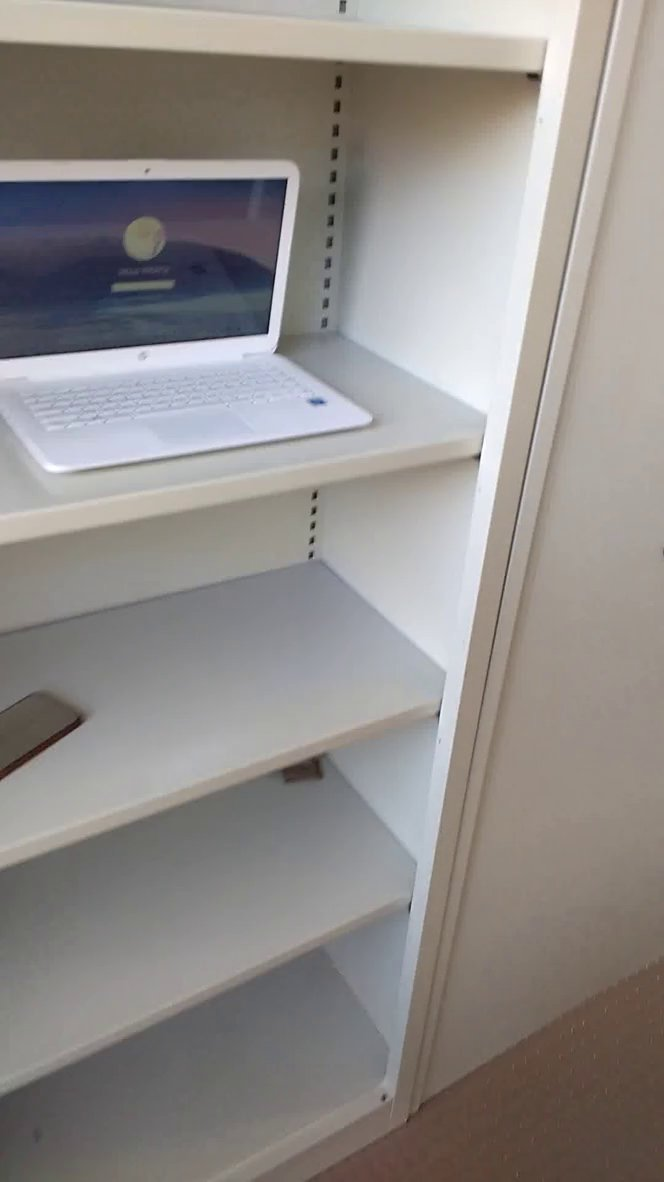laptop: (2, 119, 390, 503)
